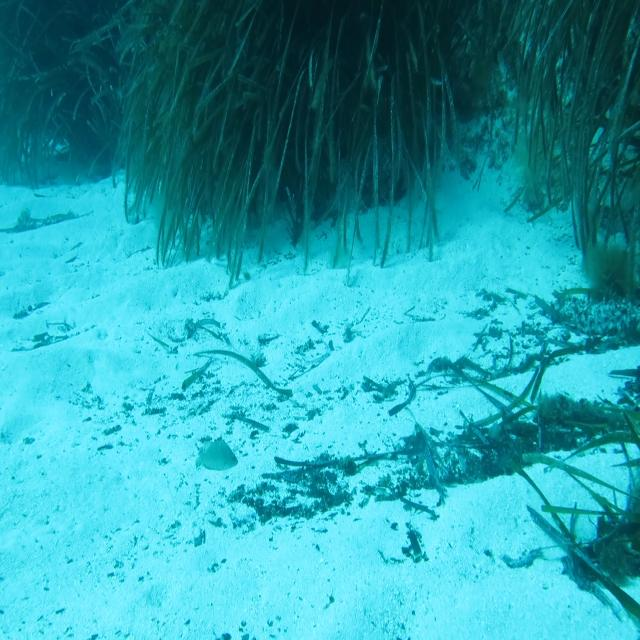SA: (191, 430, 242, 475)
vegetation: (0, 0, 640, 262), (412, 382, 640, 492)
